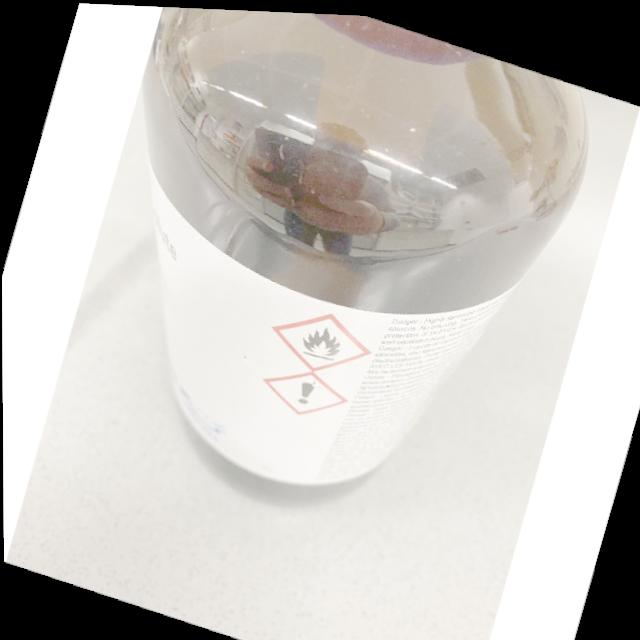flammable: (298, 317, 344, 361)
health-ozone layer hazard: (296, 378, 314, 402)
